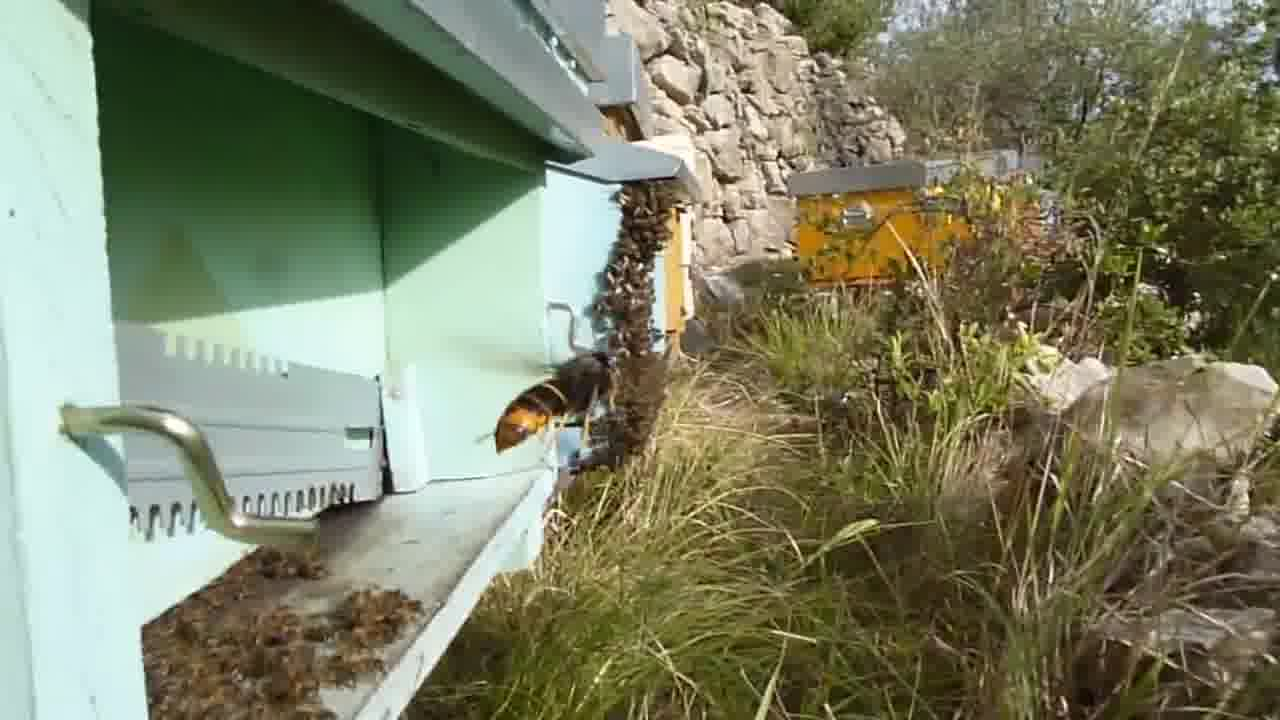bee: (151, 620, 334, 720), (589, 260, 667, 336), (339, 578, 426, 642), (610, 182, 671, 257), (239, 547, 334, 593)
hornet: (475, 330, 628, 458)
